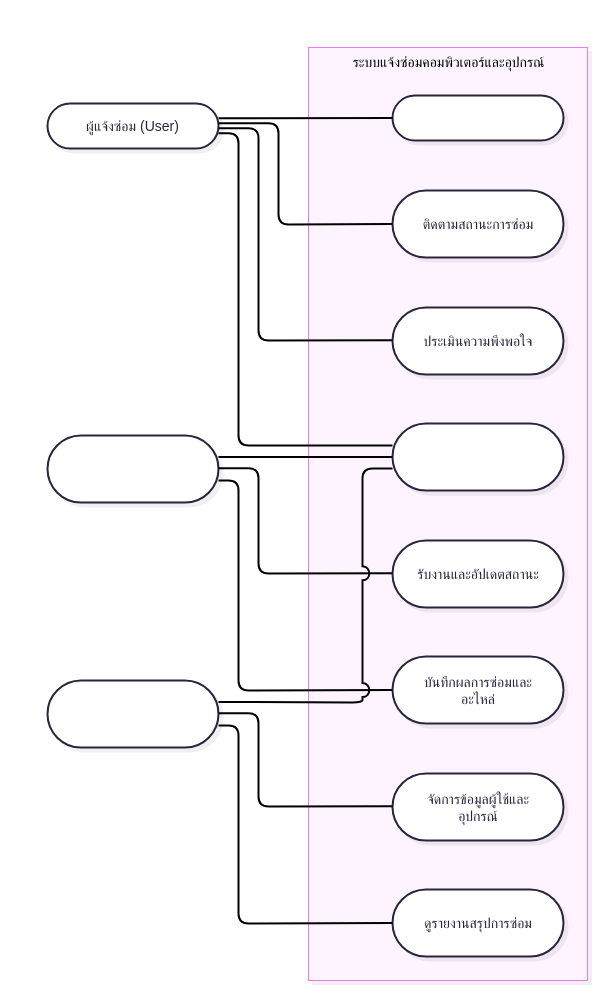
Image size: 609x1002. Some labels were removed from this diagram. Each missing label, with the centre of its shape:
"ผู้ดูแลระบบ (Admin)" belongs at (x=134, y=715).
"เข้าสู่ระบบ / ออกจากระบบ" belongs at (x=479, y=458).
"เจ้าหน้าที่ซ่อมบำรุง (Technician)" belongs at (x=134, y=470).
"แจ้งซ่อมอุปกรณ์" belongs at (x=479, y=119).
